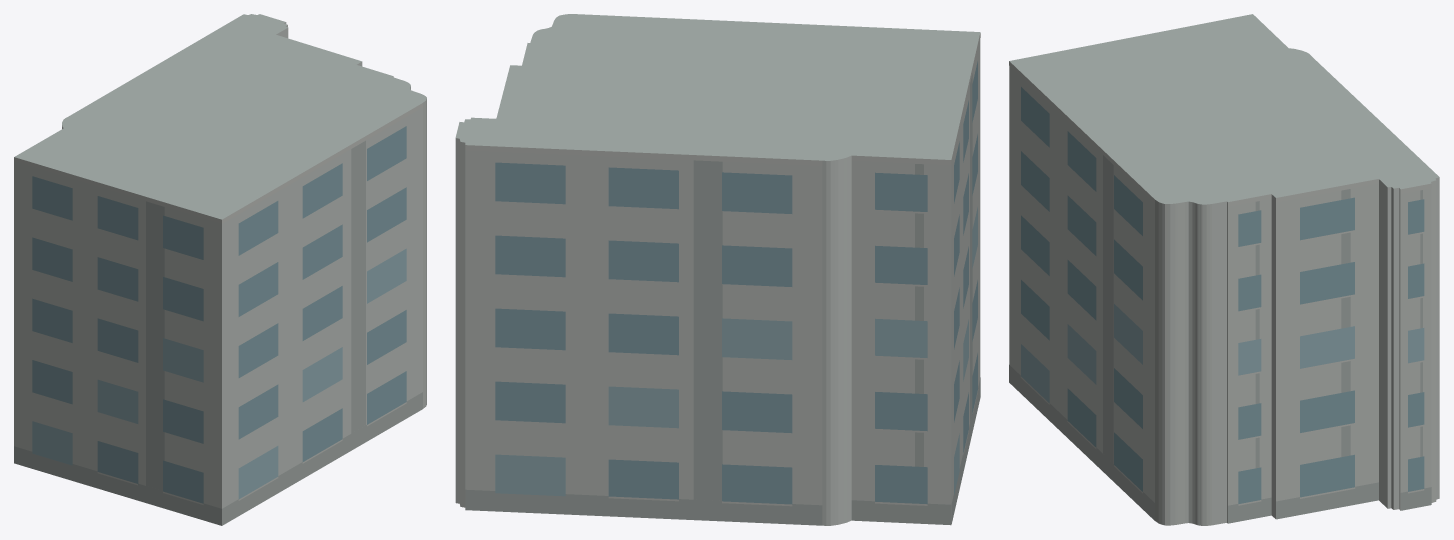
File: survey-upis-32835849.glb
The picture shows the model from 3 angles, left to right: view 1: azimuth 30°, elevation 25°; view 2: azimuth 150°, elevation 25°; view 3: azimuth 270°, elevation 25°; orthographic projection. The views are drawn at different scales.
Visible parts, largest first — view 1: survey-upis-32835849.tmp; view 2: survey-upis-32835849.tmp; view 3: survey-upis-32835849.tmp.
Part boxes in pixels (bbox=[...]): survey-upis-32835849.tmp: bbox=[14, 14, 426, 525]; survey-upis-32835849.tmp: bbox=[455, 14, 980, 525]; survey-upis-32835849.tmp: bbox=[1009, 14, 1439, 525].
Size of the model in its own units: 20.96 by 16.49 by 20.03.
